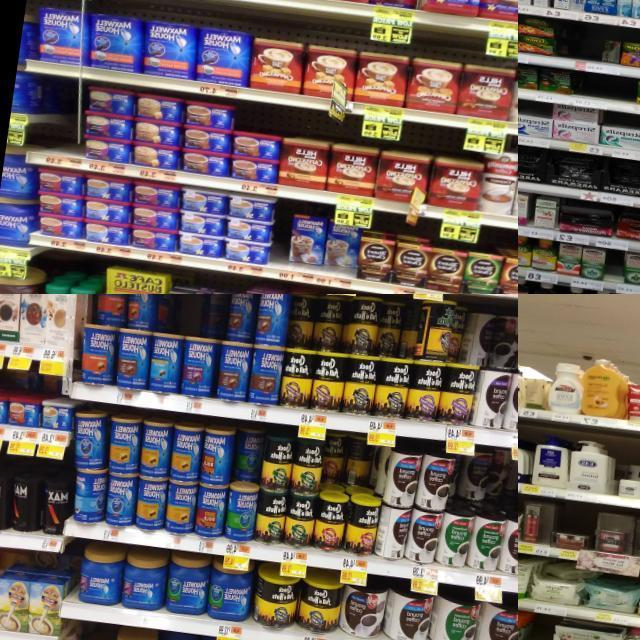empty: (42, 84, 80, 168), (580, 73, 638, 114), (575, 26, 605, 72), (602, 250, 624, 294), (526, 614, 556, 640)
